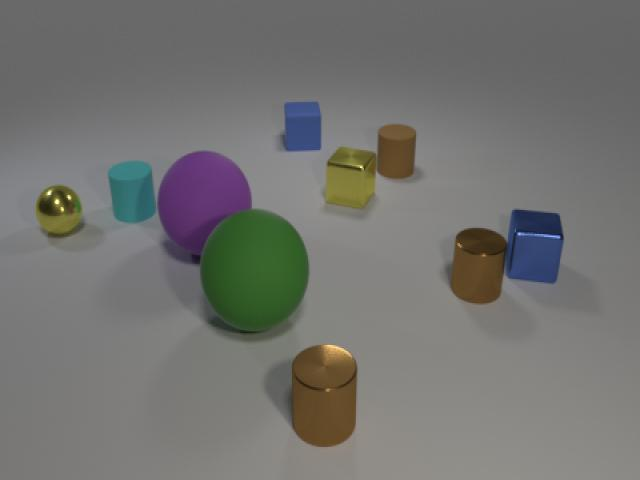cylinder: (287, 340, 364, 453), (448, 220, 509, 311), (105, 156, 157, 228), (376, 117, 418, 182)
round ball: (197, 204, 312, 336), (156, 147, 254, 256), (31, 178, 85, 242)
